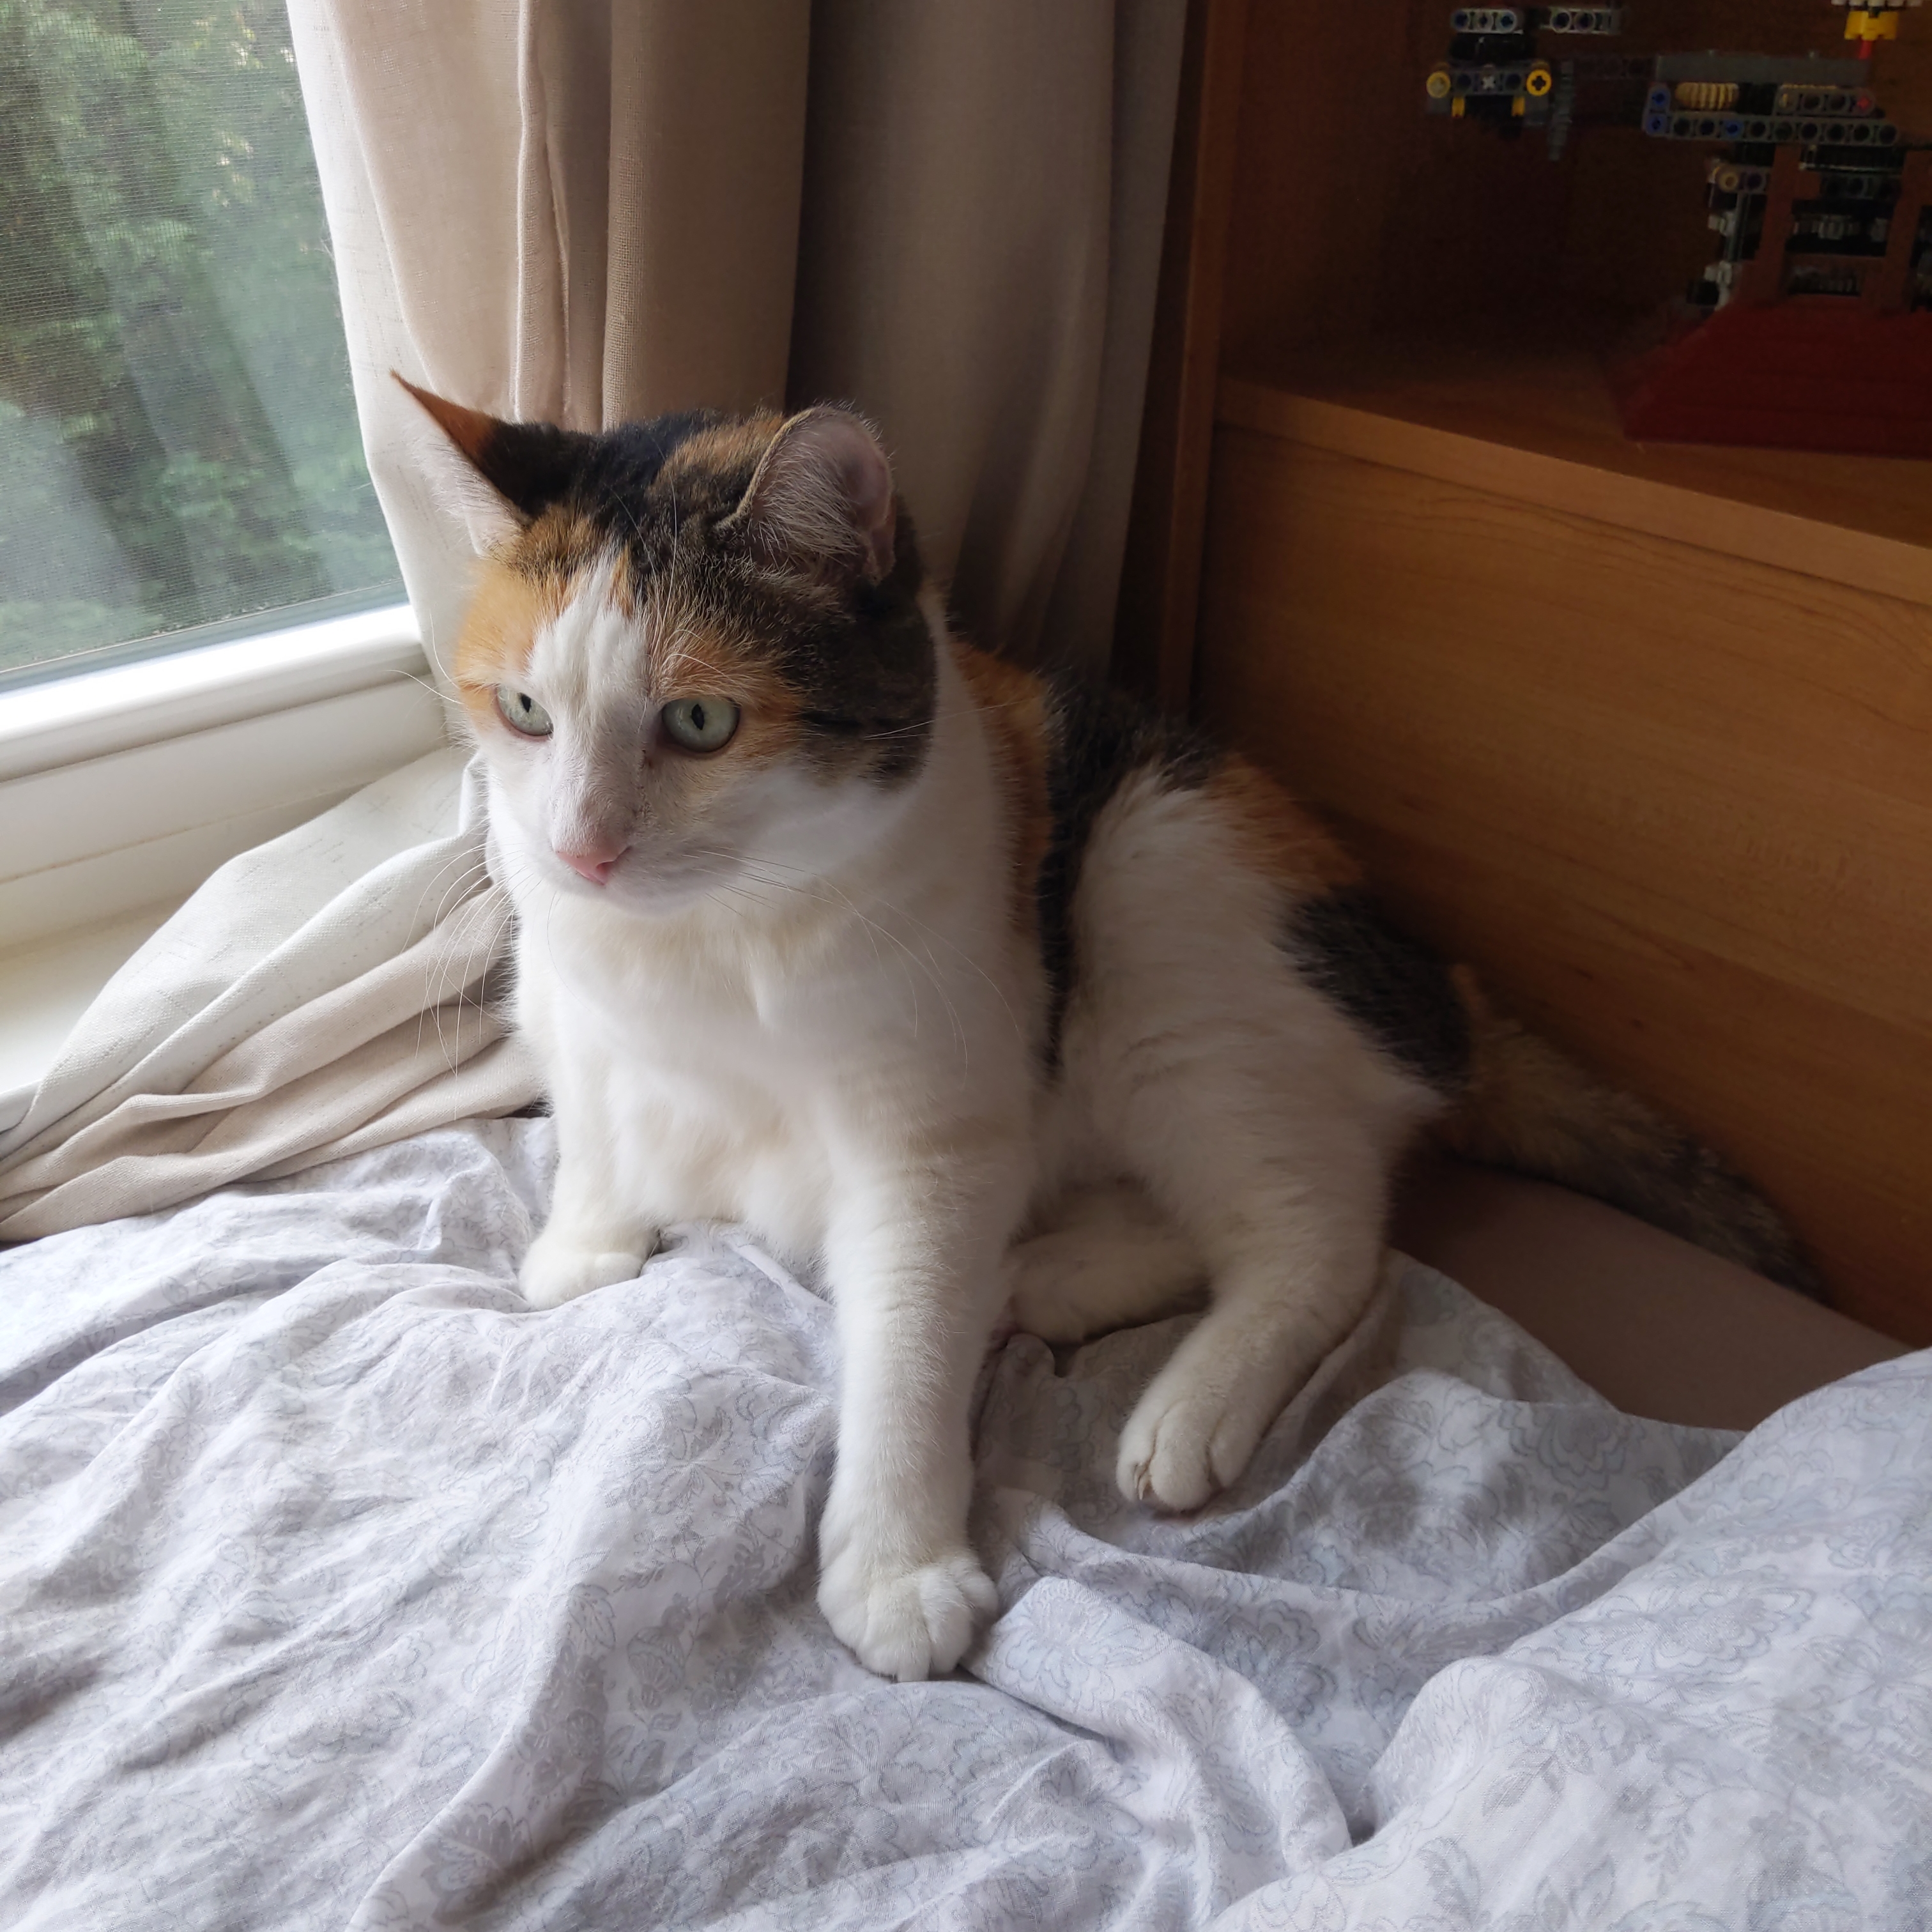Calico: (391, 363, 1822, 1683)
